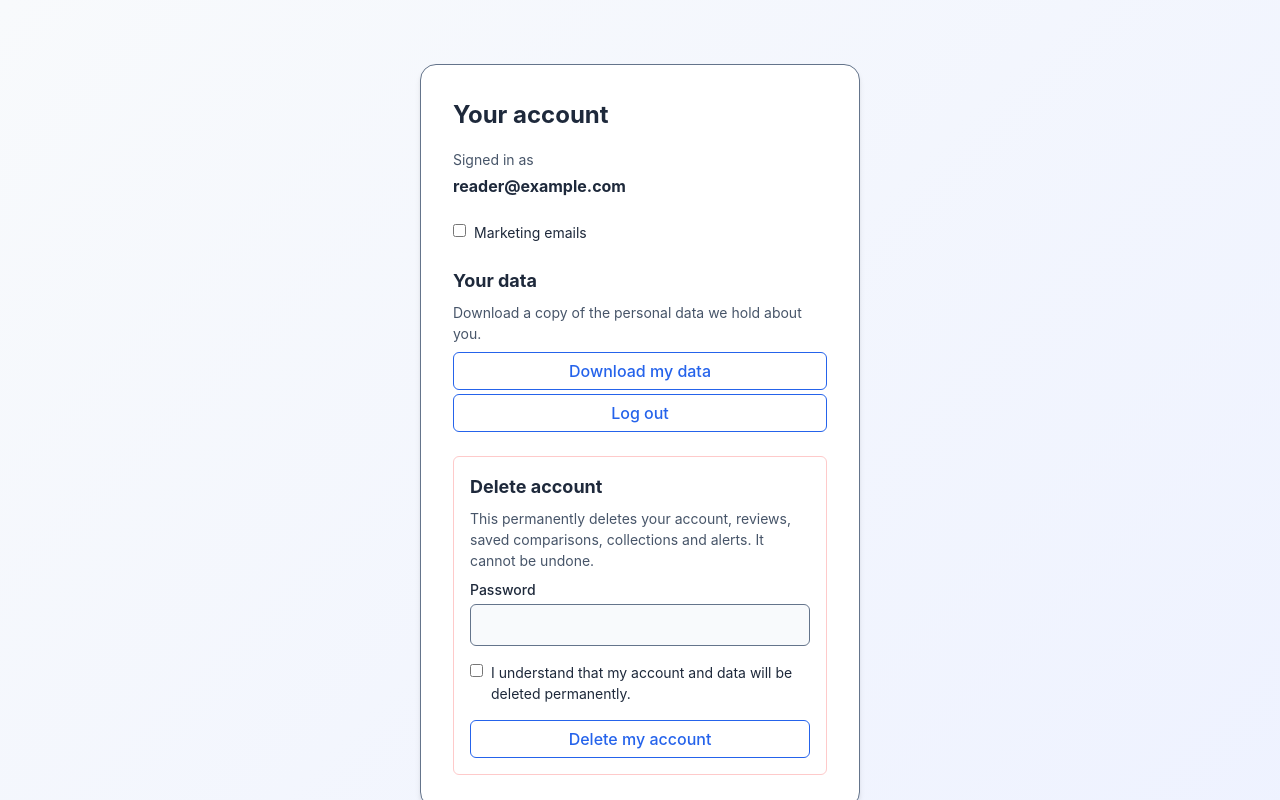
Scenario: AccountPage › keeps the toggle unchanged and shows an error when saving fails
The width and height of the screenshot is (1280, 800).
Click the checkbox labelled "Marketing emails".
click(460, 230)  # box [453,224,466,237]
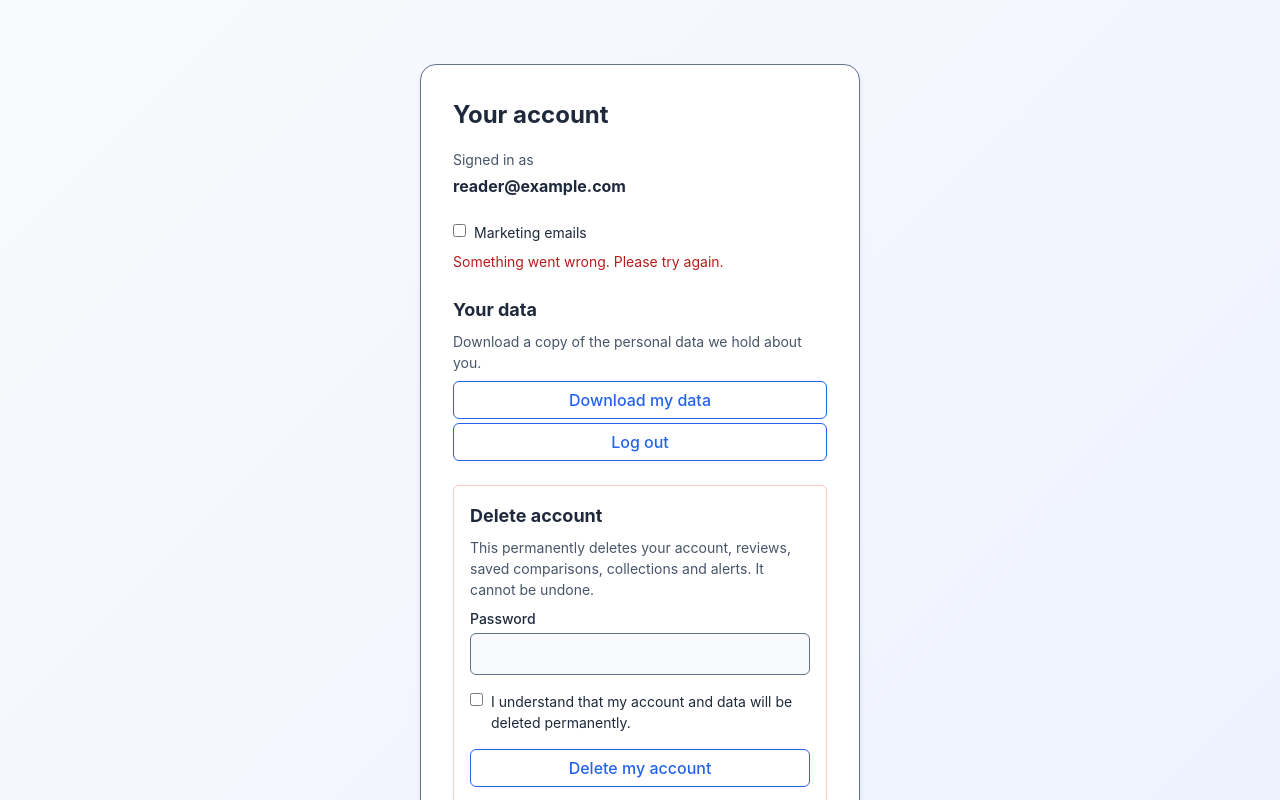
Check: the message reads "Something went wrong. Please try again.", box [453,253,724,270]
